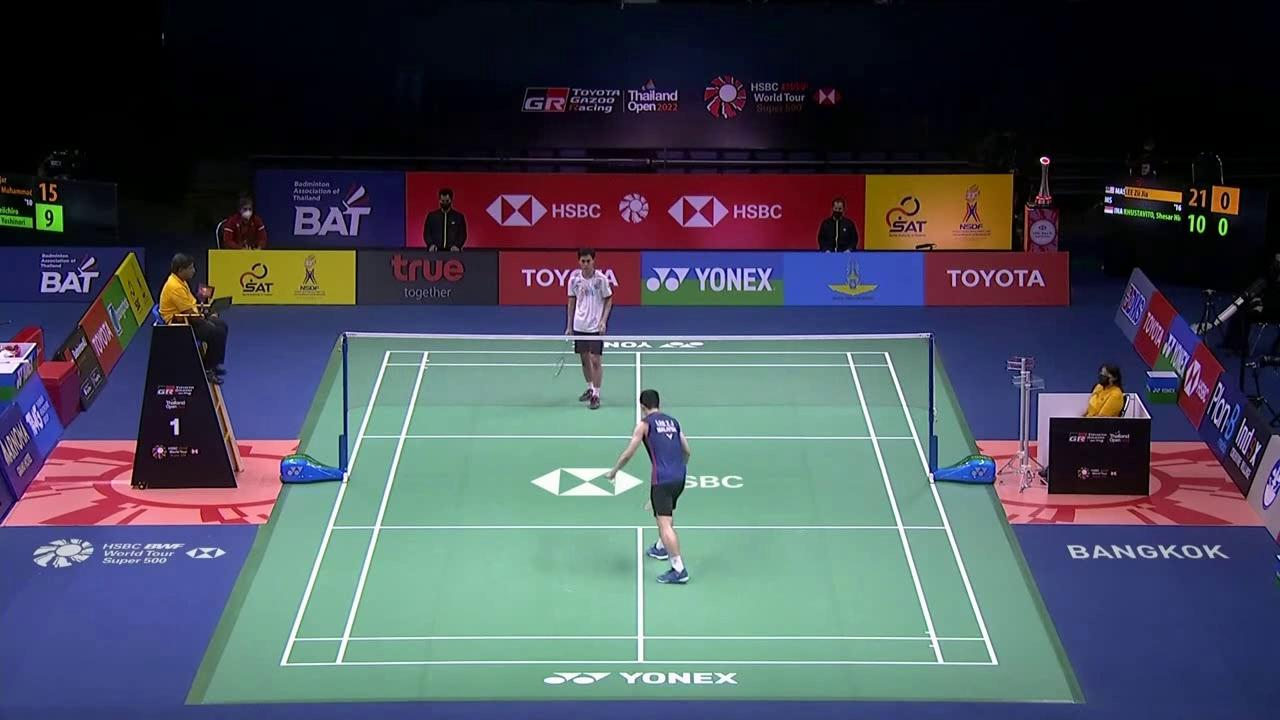racket: (643, 470, 679, 511), (554, 329, 572, 377)
shuttle: (607, 471, 616, 485)
